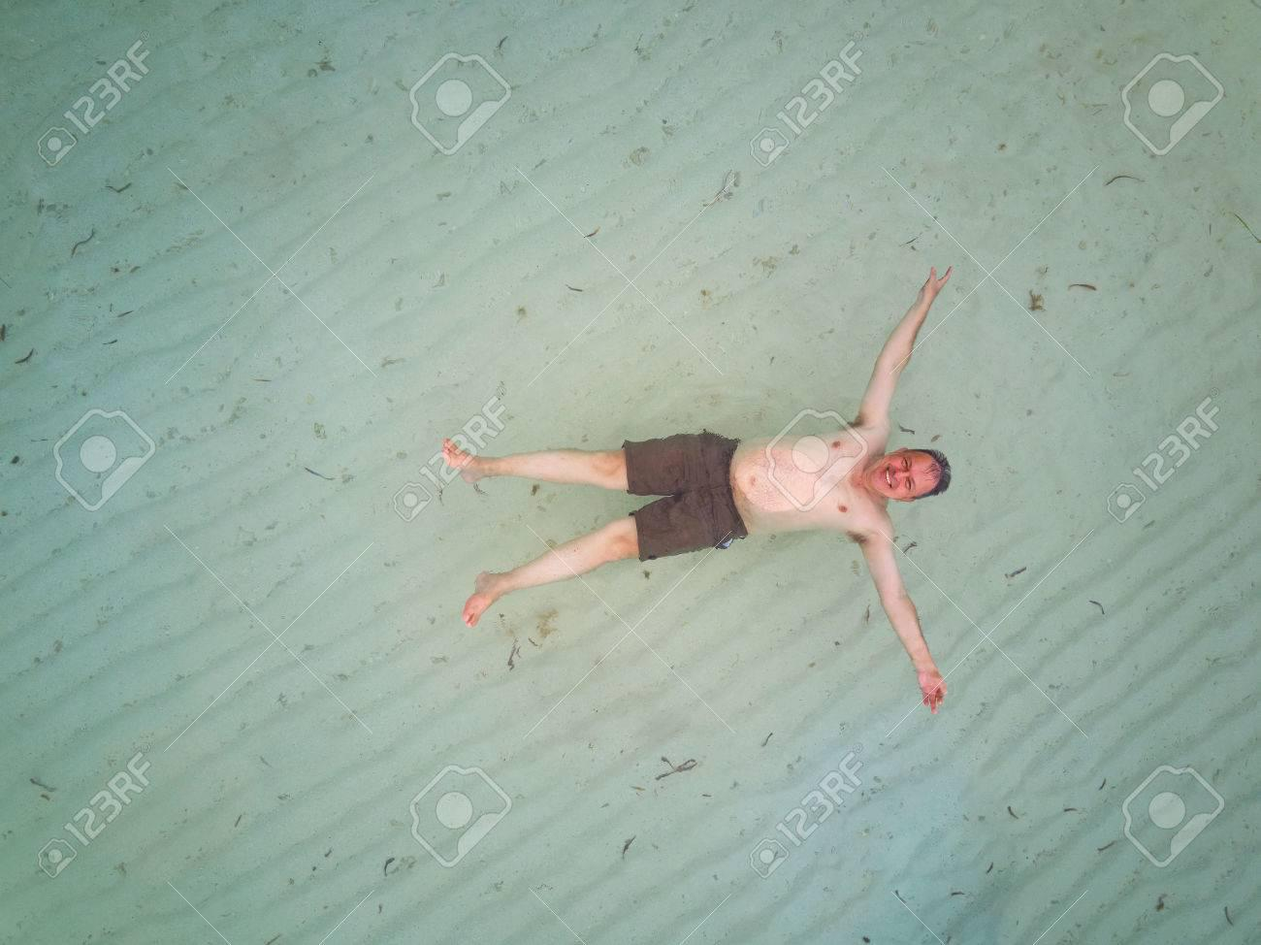human: (443, 264, 955, 715)
